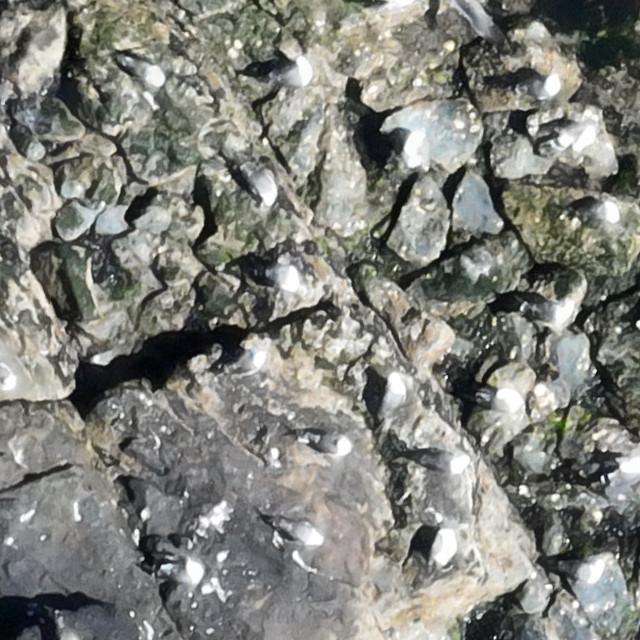umineko: (410, 442, 470, 478), (238, 159, 281, 205), (554, 547, 604, 584), (373, 372, 406, 427), (252, 260, 304, 294), (268, 514, 325, 544), (266, 55, 314, 90), (158, 556, 208, 586), (425, 525, 455, 574), (399, 130, 434, 172), (472, 389, 525, 414), (577, 195, 621, 224), (555, 118, 595, 149), (233, 344, 271, 376), (121, 58, 164, 83), (309, 435, 345, 454), (525, 78, 559, 97)
